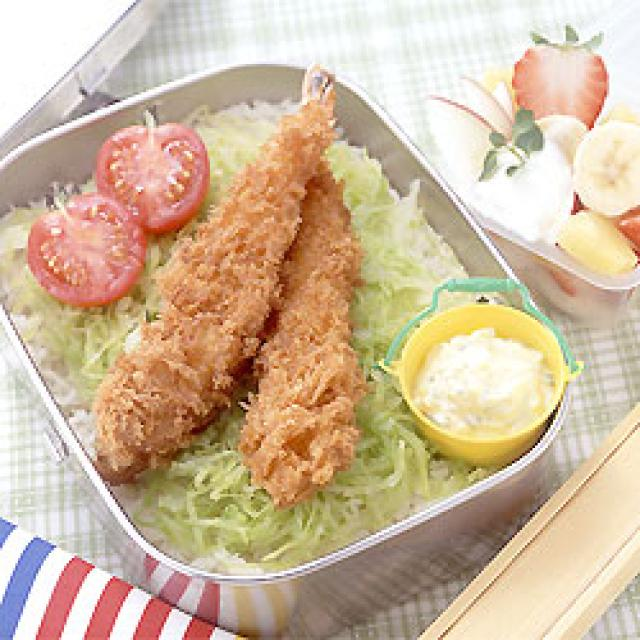炸货点心: (69, 59, 397, 517)
熟制海鲜: (69, 59, 397, 517)
